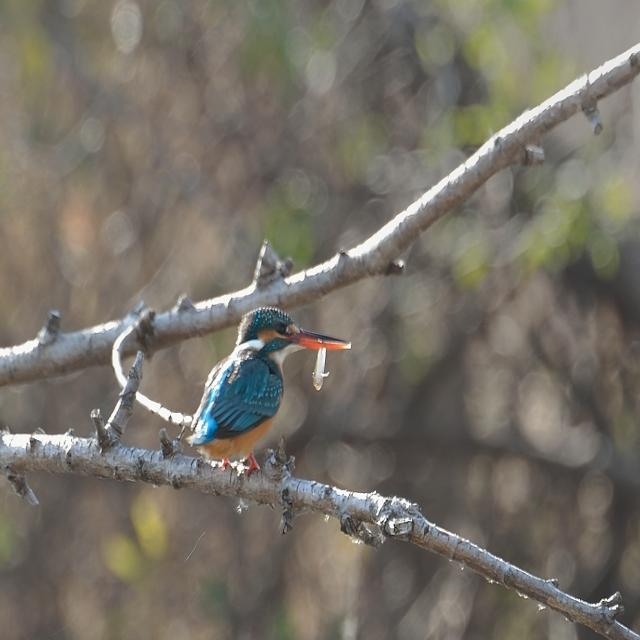bird: (173, 309, 360, 478)
